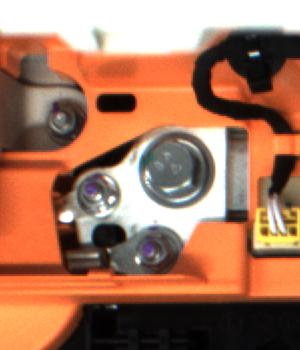nut_b: (131, 128, 225, 213)
